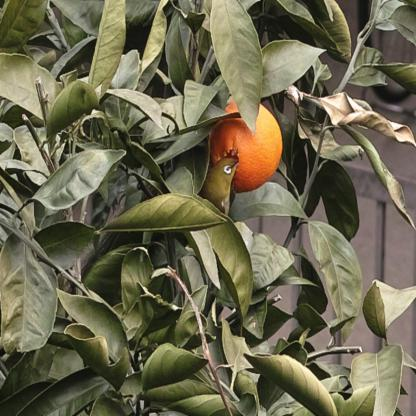Orange: (204, 95, 285, 194)
